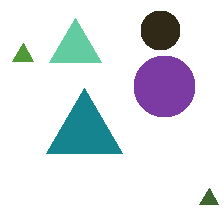circle: (134, 56, 194, 116), (141, 11, 179, 49)
triangle: (46, 88, 122, 153), (49, 18, 101, 62), (12, 43, 33, 61), (199, 188, 218, 204)
